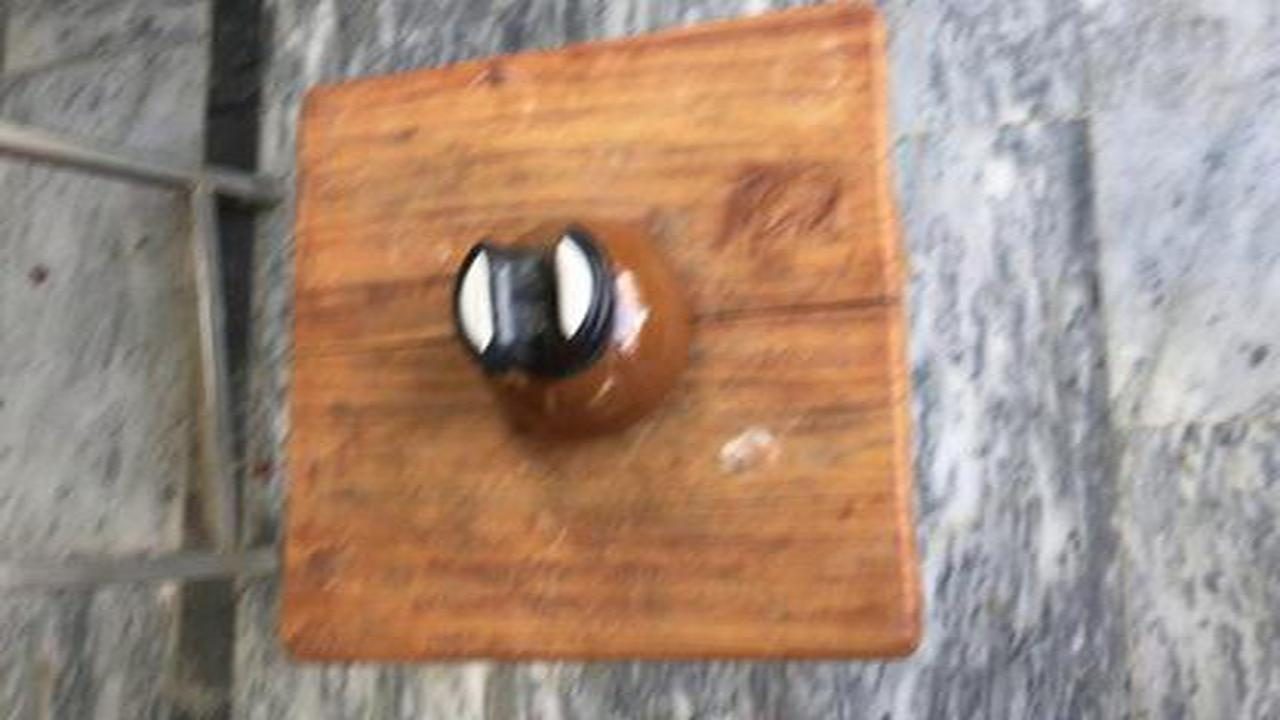insulator_pin: (422, 205, 727, 466)
